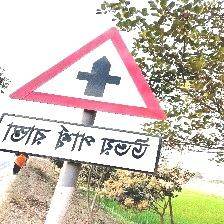Crossroad: (2, 26, 167, 174)
